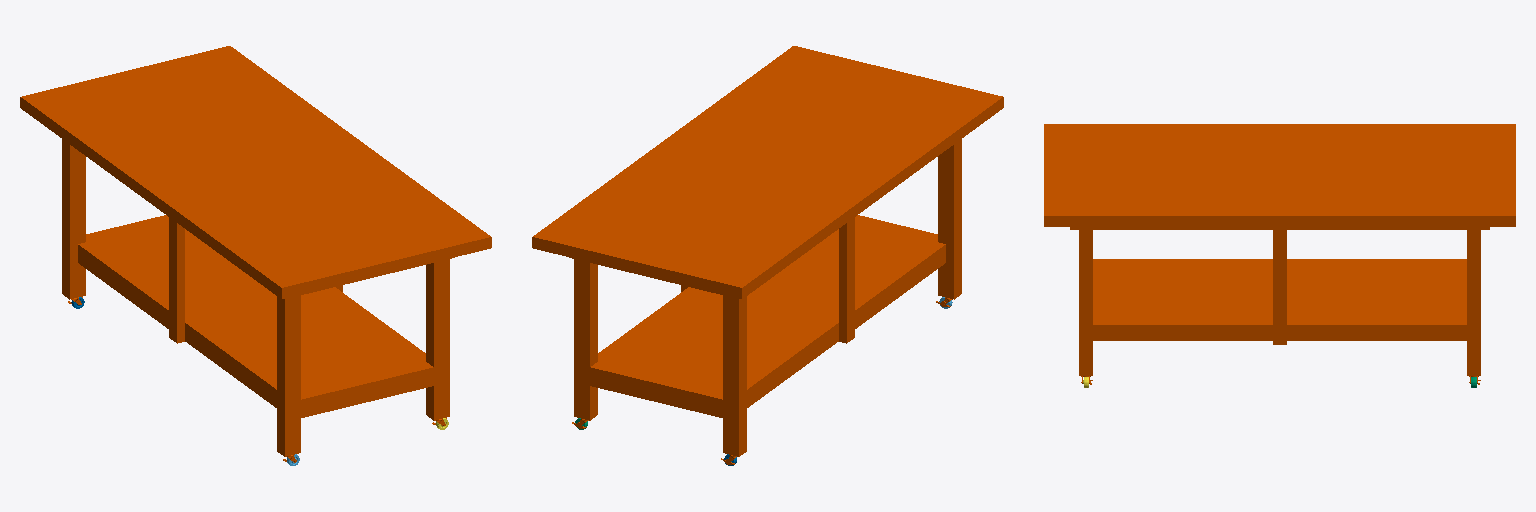
The robot description file, URDF, robot "partnet_37ef68300b944adac5a1529d102e7db9":
<?xml version="1.0" ?>
<robot name="partnet_37ef68300b944adac5a1529d102e7db9">
	<link name="base"/>
	<link name="link_0">
		<visual name="wheel-60">
			<origin xyz="0 0.5032867485184698 -0.27768425148153025"/>
			<geometry>
				<mesh filename="textured_objs/original-47.obj"/>
			</geometry>
		</visual>
		<collision>
			<origin xyz="0 0.5032867485184698 -0.27768425148153025"/>
			<geometry>
				<mesh filename="textured_objs/original-47.obj"/>
			</geometry>
		</collision>
	</link>
	<joint name="joint_0" type="continuous">
		<origin xyz="0 -0.5032867485184698 0.27768425148153025"/>
		<axis xyz="1 0 0"/>
		<child link="link_0"/>
		<parent link="link_4"/>
	</joint>
	<link name="link_1">
		<visual name="wheel-57">
			<origin xyz="0 0.5032868496765063 0.31225200000000003"/>
			<geometry>
				<mesh filename="textured_objs/original-54.obj"/>
			</geometry>
		</visual>
		<collision>
			<origin xyz="0 0.5032868496765063 0.31225200000000003"/>
			<geometry>
				<mesh filename="textured_objs/original-54.obj"/>
			</geometry>
		</collision>
	</link>
	<joint name="joint_1" type="continuous">
		<origin xyz="0 -0.5032868496765063 -0.31225200000000003"/>
		<axis xyz="1 0 0"/>
		<child link="link_1"/>
		<parent link="link_4"/>
	</joint>
	<link name="link_2">
		<visual name="wheel-54">
			<origin xyz="0 0.5032868496765063 0.31225200000000003"/>
			<geometry>
				<mesh filename="textured_objs/original-61.obj"/>
			</geometry>
		</visual>
		<collision>
			<origin xyz="0 0.5032868496765063 0.31225200000000003"/>
			<geometry>
				<mesh filename="textured_objs/original-61.obj"/>
			</geometry>
		</collision>
	</link>
	<joint name="joint_2" type="continuous">
		<origin xyz="0 -0.5032868496765063 -0.31225200000000003"/>
		<axis xyz="1 0 0"/>
		<child link="link_2"/>
		<parent link="link_4"/>
	</joint>
	<link name="link_3">
		<visual name="wheel-51">
			<origin xyz="0 0.5032867485184698 -0.27768425148153025"/>
			<geometry>
				<mesh filename="textured_objs/original-40.obj"/>
			</geometry>
		</visual>
		<collision>
			<origin xyz="0 0.5032867485184698 -0.27768425148153025"/>
			<geometry>
				<mesh filename="textured_objs/original-40.obj"/>
			</geometry>
		</collision>
	</link>
	<joint name="joint_3" type="continuous">
		<origin xyz="0 -0.5032867485184698 0.27768425148153025"/>
		<axis xyz="1 0 0"/>
		<child link="link_3"/>
		<parent link="link_4"/>
	</joint>
	<link name="link_4">
		<visual name="board-69">
			<origin xyz="0 0 0"/>
			<geometry>
				<mesh filename="textured_objs/original-36.obj"/>
			</geometry>
		</visual>
		<visual name="board-69">
			<origin xyz="0 0 0"/>
			<geometry>
				<mesh filename="textured_objs/original-33.obj"/>
			</geometry>
		</visual>
		<visual name="board-69">
			<origin xyz="0 0 0"/>
			<geometry>
				<mesh filename="textured_objs/original-35.obj"/>
			</geometry>
		</visual>
		<visual name="board-69">
			<origin xyz="0 0 0"/>
			<geometry>
				<mesh filename="textured_objs/original-37.obj"/>
			</geometry>
		</visual>
		<visual name="board-69">
			<origin xyz="0 0 0"/>
			<geometry>
				<mesh filename="textured_objs/original-38.obj"/>
			</geometry>
		</visual>
		<visual name="shelf-24">
			<origin xyz="0 0 0"/>
			<geometry>
				<mesh filename="textured_objs/original-34.obj"/>
			</geometry>
		</visual>
		<visual name="leg-25">
			<origin xyz="0 0 0"/>
			<geometry>
				<mesh filename="textured_objs/original-11.obj"/>
			</geometry>
		</visual>
		<visual name="leg-25">
			<origin xyz="0 0 0"/>
			<geometry>
				<mesh filename="textured_objs/original-10.obj"/>
			</geometry>
		</visual>
		<visual name="leg-25">
			<origin xyz="0 0 0"/>
			<geometry>
				<mesh filename="textured_objs/original-9.obj"/>
			</geometry>
		</visual>
		<visual name="leg-26">
			<origin xyz="0 0 0"/>
			<geometry>
				<mesh filename="textured_objs/original-20.obj"/>
			</geometry>
		</visual>
		<visual name="leg-26">
			<origin xyz="0 0 0"/>
			<geometry>
				<mesh filename="textured_objs/original-19.obj"/>
			</geometry>
		</visual>
		<visual name="leg-26">
			<origin xyz="0 0 0"/>
			<geometry>
				<mesh filename="textured_objs/original-18.obj"/>
			</geometry>
		</visual>
		<visual name="leg-27">
			<origin xyz="0 0 0"/>
			<geometry>
				<mesh filename="textured_objs/original-23.obj"/>
			</geometry>
		</visual>
		<visual name="leg-27">
			<origin xyz="0 0 0"/>
			<geometry>
				<mesh filename="textured_objs/original-24.obj"/>
			</geometry>
		</visual>
		<visual name="leg-27">
			<origin xyz="0 0 0"/>
			<geometry>
				<mesh filename="textured_objs/original-22.obj"/>
			</geometry>
		</visual>
		<visual name="leg-28">
			<origin xyz="0 0 0"/>
			<geometry>
				<mesh filename="textured_objs/original-6.obj"/>
			</geometry>
		</visual>
		<visual name="leg-28">
			<origin xyz="0 0 0"/>
			<geometry>
				<mesh filename="textured_objs/original-5.obj"/>
			</geometry>
		</visual>
		<visual name="leg-28">
			<origin xyz="0 0 0"/>
			<geometry>
				<mesh filename="textured_objs/original-7.obj"/>
			</geometry>
		</visual>
		<visual name="bar_stretcher-33">
			<origin xyz="0 0 0"/>
			<geometry>
				<mesh filename="textured_objs/original-31.obj"/>
			</geometry>
		</visual>
		<visual name="bar_stretcher-34">
			<origin xyz="0 0 0"/>
			<geometry>
				<mesh filename="textured_objs/original-32.obj"/>
			</geometry>
		</visual>
		<visual name="bar_stretcher-35">
			<origin xyz="0 0 0"/>
			<geometry>
				<mesh filename="textured_objs/original-1.obj"/>
			</geometry>
		</visual>
		<visual name="bar_stretcher-36">
			<origin xyz="0 0 0"/>
			<geometry>
				<mesh filename="textured_objs/original-15.obj"/>
			</geometry>
		</visual>
		<visual name="bar_stretcher-37">
			<origin xyz="0 0 0"/>
			<geometry>
				<mesh filename="textured_objs/original-12.obj"/>
			</geometry>
		</visual>
		<visual name="bar_stretcher-38">
			<origin xyz="0 0 0"/>
			<geometry>
				<mesh filename="textured_objs/original-26.obj"/>
			</geometry>
		</visual>
		<visual name="bar_stretcher-39">
			<origin xyz="0 0 0"/>
			<geometry>
				<mesh filename="textured_objs/original-25.obj"/>
			</geometry>
		</visual>
		<visual name="bar_stretcher-40">
			<origin xyz="0 0 0"/>
			<geometry>
				<mesh filename="textured_objs/original-27.obj"/>
			</geometry>
		</visual>
		<visual name="bar_stretcher-41">
			<origin xyz="0 0 0"/>
			<geometry>
				<mesh filename="textured_objs/original-3.obj"/>
			</geometry>
		</visual>
		<visual name="tabletop_connector-42">
			<origin xyz="0 0 0"/>
			<geometry>
				<mesh filename="textured_objs/original-16.obj"/>
			</geometry>
		</visual>
		<visual name="tabletop_connector-43">
			<origin xyz="0 0 0"/>
			<geometry>
				<mesh filename="textured_objs/original-2.obj"/>
			</geometry>
		</visual>
		<visual name="tabletop_connector-44">
			<origin xyz="0 0 0"/>
			<geometry>
				<mesh filename="textured_objs/original-13.obj"/>
			</geometry>
		</visual>
		<visual name="tabletop_connector-45">
			<origin xyz="0 0 0"/>
			<geometry>
				<mesh filename="textured_objs/original-29.obj"/>
			</geometry>
		</visual>
		<visual name="tabletop_connector-46">
			<origin xyz="0 0 0"/>
			<geometry>
				<mesh filename="textured_objs/original-28.obj"/>
			</geometry>
		</visual>
		<visual name="tabletop_connector-47">
			<origin xyz="0 0 0"/>
			<geometry>
				<mesh filename="textured_objs/original-30.obj"/>
			</geometry>
		</visual>
		<visual name="tabletop_connector-48">
			<origin xyz="0 0 0"/>
			<geometry>
				<mesh filename="textured_objs/original-14.obj"/>
			</geometry>
		</visual>
		<visual name="caster_yoke-58">
			<origin xyz="0 0 0"/>
			<geometry>
				<mesh filename="textured_objs/original-48.obj"/>
			</geometry>
		</visual>
		<visual name="caster_yoke-58">
			<origin xyz="0 0 0"/>
			<geometry>
				<mesh filename="textured_objs/original-51.obj"/>
			</geometry>
		</visual>
		<visual name="caster_yoke-58">
			<origin xyz="0 0 0"/>
			<geometry>
				<mesh filename="textured_objs/original-52.obj"/>
			</geometry>
		</visual>
		<visual name="caster_yoke-58">
			<origin xyz="0 0 0"/>
			<geometry>
				<mesh filename="textured_objs/original-49.obj"/>
			</geometry>
		</visual>
		<visual name="caster_mounting_plate-59">
			<origin xyz="0 0 0"/>
			<geometry>
				<mesh filename="textured_objs/original-50.obj"/>
			</geometry>
		</visual>
		<visual name="caster_yoke-55">
			<origin xyz="0 0 0"/>
			<geometry>
				<mesh filename="textured_objs/original-56.obj"/>
			</geometry>
		</visual>
		<visual name="caster_yoke-55">
			<origin xyz="0 0 0"/>
			<geometry>
				<mesh filename="textured_objs/original-55.obj"/>
			</geometry>
		</visual>
		<visual name="caster_yoke-55">
			<origin xyz="0 0 0"/>
			<geometry>
				<mesh filename="textured_objs/original-58.obj"/>
			</geometry>
		</visual>
		<visual name="caster_yoke-55">
			<origin xyz="0 0 0"/>
			<geometry>
				<mesh filename="textured_objs/original-59.obj"/>
			</geometry>
		</visual>
		<visual name="caster_mounting_plate-56">
			<origin xyz="0 0 0"/>
			<geometry>
				<mesh filename="textured_objs/original-57.obj"/>
			</geometry>
		</visual>
		<visual name="caster_yoke-52">
			<origin xyz="0 0 0"/>
			<geometry>
				<mesh filename="textured_objs/original-66.obj"/>
			</geometry>
		</visual>
		<visual name="caster_yoke-52">
			<origin xyz="0 0 0"/>
			<geometry>
				<mesh filename="textured_objs/original-65.obj"/>
			</geometry>
		</visual>
		<visual name="caster_yoke-52">
			<origin xyz="0 0 0"/>
			<geometry>
				<mesh filename="textured_objs/original-62.obj"/>
			</geometry>
		</visual>
		<visual name="caster_yoke-52">
			<origin xyz="0 0 0"/>
			<geometry>
				<mesh filename="textured_objs/original-63.obj"/>
			</geometry>
		</visual>
		<visual name="caster_mounting_plate-53">
			<origin xyz="0 0 0"/>
			<geometry>
				<mesh filename="textured_objs/original-64.obj"/>
			</geometry>
		</visual>
		<visual name="caster_yoke-49">
			<origin xyz="0 0 0"/>
			<geometry>
				<mesh filename="textured_objs/original-41.obj"/>
			</geometry>
		</visual>
		<visual name="caster_yoke-49">
			<origin xyz="0 0 0"/>
			<geometry>
				<mesh filename="textured_objs/original-42.obj"/>
			</geometry>
		</visual>
		<visual name="caster_yoke-49">
			<origin xyz="0 0 0"/>
			<geometry>
				<mesh filename="textured_objs/original-44.obj"/>
			</geometry>
		</visual>
		<visual name="caster_yoke-49">
			<origin xyz="0 0 0"/>
			<geometry>
				<mesh filename="textured_objs/original-45.obj"/>
			</geometry>
		</visual>
		<visual name="caster_mounting_plate-50">
			<origin xyz="0 0 0"/>
			<geometry>
				<mesh filename="textured_objs/original-43.obj"/>
			</geometry>
		</visual>
		<collision>
			<origin xyz="0 0 0"/>
			<geometry>
				<mesh filename="textured_objs/original-36.obj"/>
			</geometry>
		</collision>
		<collision>
			<origin xyz="0 0 0"/>
			<geometry>
				<mesh filename="textured_objs/original-33.obj"/>
			</geometry>
		</collision>
		<collision>
			<origin xyz="0 0 0"/>
			<geometry>
				<mesh filename="textured_objs/original-35.obj"/>
			</geometry>
		</collision>
		<collision>
			<origin xyz="0 0 0"/>
			<geometry>
				<mesh filename="textured_objs/original-37.obj"/>
			</geometry>
		</collision>
		<collision>
			<origin xyz="0 0 0"/>
			<geometry>
				<mesh filename="textured_objs/original-38.obj"/>
			</geometry>
		</collision>
		<collision>
			<origin xyz="0 0 0"/>
			<geometry>
				<mesh filename="textured_objs/original-34.obj"/>
			</geometry>
		</collision>
		<collision>
			<origin xyz="0 0 0"/>
			<geometry>
				<mesh filename="textured_objs/original-11.obj"/>
			</geometry>
		</collision>
		<collision>
			<origin xyz="0 0 0"/>
			<geometry>
				<mesh filename="textured_objs/original-10.obj"/>
			</geometry>
		</collision>
		<collision>
			<origin xyz="0 0 0"/>
			<geometry>
				<mesh filename="textured_objs/original-9.obj"/>
			</geometry>
		</collision>
		<collision>
			<origin xyz="0 0 0"/>
			<geometry>
				<mesh filename="textured_objs/original-20.obj"/>
			</geometry>
		</collision>
		<collision>
			<origin xyz="0 0 0"/>
			<geometry>
				<mesh filename="textured_objs/original-19.obj"/>
			</geometry>
		</collision>
		<collision>
			<origin xyz="0 0 0"/>
			<geometry>
				<mesh filename="textured_objs/original-18.obj"/>
			</geometry>
		</collision>
		<collision>
			<origin xyz="0 0 0"/>
			<geometry>
				<mesh filename="textured_objs/original-23.obj"/>
			</geometry>
		</collision>
		<collision>
			<origin xyz="0 0 0"/>
			<geometry>
				<mesh filename="textured_objs/original-24.obj"/>
			</geometry>
		</collision>
		<collision>
			<origin xyz="0 0 0"/>
			<geometry>
				<mesh filename="textured_objs/original-22.obj"/>
			</geometry>
		</collision>
		<collision>
			<origin xyz="0 0 0"/>
			<geometry>
				<mesh filename="textured_objs/original-6.obj"/>
			</geometry>
		</collision>
		<collision>
			<origin xyz="0 0 0"/>
			<geometry>
				<mesh filename="textured_objs/original-5.obj"/>
			</geometry>
		</collision>
		<collision>
			<origin xyz="0 0 0"/>
			<geometry>
				<mesh filename="textured_objs/original-7.obj"/>
			</geometry>
		</collision>
		<collision>
			<origin xyz="0 0 0"/>
			<geometry>
				<mesh filename="textured_objs/original-31.obj"/>
			</geometry>
		</collision>
		<collision>
			<origin xyz="0 0 0"/>
			<geometry>
				<mesh filename="textured_objs/original-32.obj"/>
			</geometry>
		</collision>
		<collision>
			<origin xyz="0 0 0"/>
			<geometry>
				<mesh filename="textured_objs/original-1.obj"/>
			</geometry>
		</collision>
		<collision>
			<origin xyz="0 0 0"/>
			<geometry>
				<mesh filename="textured_objs/original-15.obj"/>
			</geometry>
		</collision>
		<collision>
			<origin xyz="0 0 0"/>
			<geometry>
				<mesh filename="textured_objs/original-12.obj"/>
			</geometry>
		</collision>
		<collision>
			<origin xyz="0 0 0"/>
			<geometry>
				<mesh filename="textured_objs/original-26.obj"/>
			</geometry>
		</collision>
		<collision>
			<origin xyz="0 0 0"/>
			<geometry>
				<mesh filename="textured_objs/original-25.obj"/>
			</geometry>
		</collision>
		<collision>
			<origin xyz="0 0 0"/>
			<geometry>
				<mesh filename="textured_objs/original-27.obj"/>
			</geometry>
		</collision>
		<collision>
			<origin xyz="0 0 0"/>
			<geometry>
				<mesh filename="textured_objs/original-3.obj"/>
			</geometry>
		</collision>
		<collision>
			<origin xyz="0 0 0"/>
			<geometry>
				<mesh filename="textured_objs/original-16.obj"/>
			</geometry>
		</collision>
		<collision>
			<origin xyz="0 0 0"/>
			<geometry>
				<mesh filename="textured_objs/original-2.obj"/>
			</geometry>
		</collision>
		<collision>
			<origin xyz="0 0 0"/>
			<geometry>
				<mesh filename="textured_objs/original-13.obj"/>
			</geometry>
		</collision>
		<collision>
			<origin xyz="0 0 0"/>
			<geometry>
				<mesh filename="textured_objs/original-29.obj"/>
			</geometry>
		</collision>
		<collision>
			<origin xyz="0 0 0"/>
			<geometry>
				<mesh filename="textured_objs/original-28.obj"/>
			</geometry>
		</collision>
		<collision>
			<origin xyz="0 0 0"/>
			<geometry>
				<mesh filename="textured_objs/original-30.obj"/>
			</geometry>
		</collision>
		<collision>
			<origin xyz="0 0 0"/>
			<geometry>
				<mesh filename="textured_objs/original-14.obj"/>
			</geometry>
		</collision>
		<collision>
			<origin xyz="0 0 0"/>
			<geometry>
				<mesh filename="textured_objs/original-48.obj"/>
			</geometry>
		</collision>
		<collision>
			<origin xyz="0 0 0"/>
			<geometry>
				<mesh filename="textured_objs/original-51.obj"/>
			</geometry>
		</collision>
		<collision>
			<origin xyz="0 0 0"/>
			<geometry>
				<mesh filename="textured_objs/original-52.obj"/>
			</geometry>
		</collision>
		<collision>
			<origin xyz="0 0 0"/>
			<geometry>
				<mesh filename="textured_objs/original-49.obj"/>
			</geometry>
		</collision>
		<collision>
			<origin xyz="0 0 0"/>
			<geometry>
				<mesh filename="textured_objs/original-50.obj"/>
			</geometry>
		</collision>
		<collision>
			<origin xyz="0 0 0"/>
			<geometry>
				<mesh filename="textured_objs/original-56.obj"/>
			</geometry>
		</collision>
		<collision>
			<origin xyz="0 0 0"/>
			<geometry>
				<mesh filename="textured_objs/original-55.obj"/>
			</geometry>
		</collision>
		<collision>
			<origin xyz="0 0 0"/>
			<geometry>
				<mesh filename="textured_objs/original-58.obj"/>
			</geometry>
		</collision>
		<collision>
			<origin xyz="0 0 0"/>
			<geometry>
				<mesh filename="textured_objs/original-59.obj"/>
			</geometry>
		</collision>
		<collision>
			<origin xyz="0 0 0"/>
			<geometry>
				<mesh filename="textured_objs/original-57.obj"/>
			</geometry>
		</collision>
		<collision>
			<origin xyz="0 0 0"/>
			<geometry>
				<mesh filename="textured_objs/original-66.obj"/>
			</geometry>
		</collision>
		<collision>
			<origin xyz="0 0 0"/>
			<geometry>
				<mesh filename="textured_objs/original-65.obj"/>
			</geometry>
		</collision>
		<collision>
			<origin xyz="0 0 0"/>
			<geometry>
				<mesh filename="textured_objs/original-62.obj"/>
			</geometry>
		</collision>
		<collision>
			<origin xyz="0 0 0"/>
			<geometry>
				<mesh filename="textured_objs/original-63.obj"/>
			</geometry>
		</collision>
		<collision>
			<origin xyz="0 0 0"/>
			<geometry>
				<mesh filename="textured_objs/original-64.obj"/>
			</geometry>
		</collision>
		<collision>
			<origin xyz="0 0 0"/>
			<geometry>
				<mesh filename="textured_objs/original-41.obj"/>
			</geometry>
		</collision>
		<collision>
			<origin xyz="0 0 0"/>
			<geometry>
				<mesh filename="textured_objs/original-42.obj"/>
			</geometry>
		</collision>
		<collision>
			<origin xyz="0 0 0"/>
			<geometry>
				<mesh filename="textured_objs/original-44.obj"/>
			</geometry>
		</collision>
		<collision>
			<origin xyz="0 0 0"/>
			<geometry>
				<mesh filename="textured_objs/original-45.obj"/>
			</geometry>
		</collision>
		<collision>
			<origin xyz="0 0 0"/>
			<geometry>
				<mesh filename="textured_objs/original-43.obj"/>
			</geometry>
		</collision>
	</link>
	<joint name="joint_4" type="fixed">
		<origin rpy="1.570796326794897 0 -1.570796326794897" xyz="0 0 0"/>
		<child link="link_4"/>
		<parent link="base"/>
	</joint>
</robot>

--- What the picture shows (computed from the rendered views, not written in the file) ---
Views: 3 orthographic renders of the robot side by side, from view 1: azimuth 30°, elevation 25°; view 2: azimuth 150°, elevation 25°; view 3: azimuth 270°, elevation 25°.
Robot: partnet_37ef68300b944adac5a1529d102e7db9 — 6 links, 5 joints (4 continuous, 1 fixed); root link base; default pose: every joint at zero.
Visible links, largest first — view 1: link_4; view 2: link_4; view 3: link_4.
Link boxes in pixels (x1,y1,x2,y2): link_4: [20, 46, 491, 462]; link_4: [532, 46, 1003, 464]; link_4: [1044, 124, 1515, 384].
Bounding box of the posed robot: 0.8303 × 1.79 × 0.7675 m (x, y, z).
58 mesh visuals loaded from 58 distinct referenced files (58 OBJ).